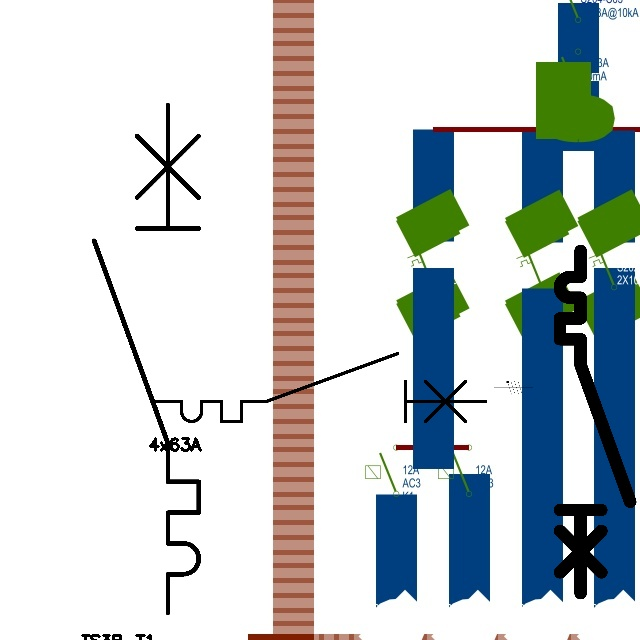interruptor_termomagnetico: (81, 92, 212, 626), (551, 242, 639, 602), (148, 345, 494, 430)
